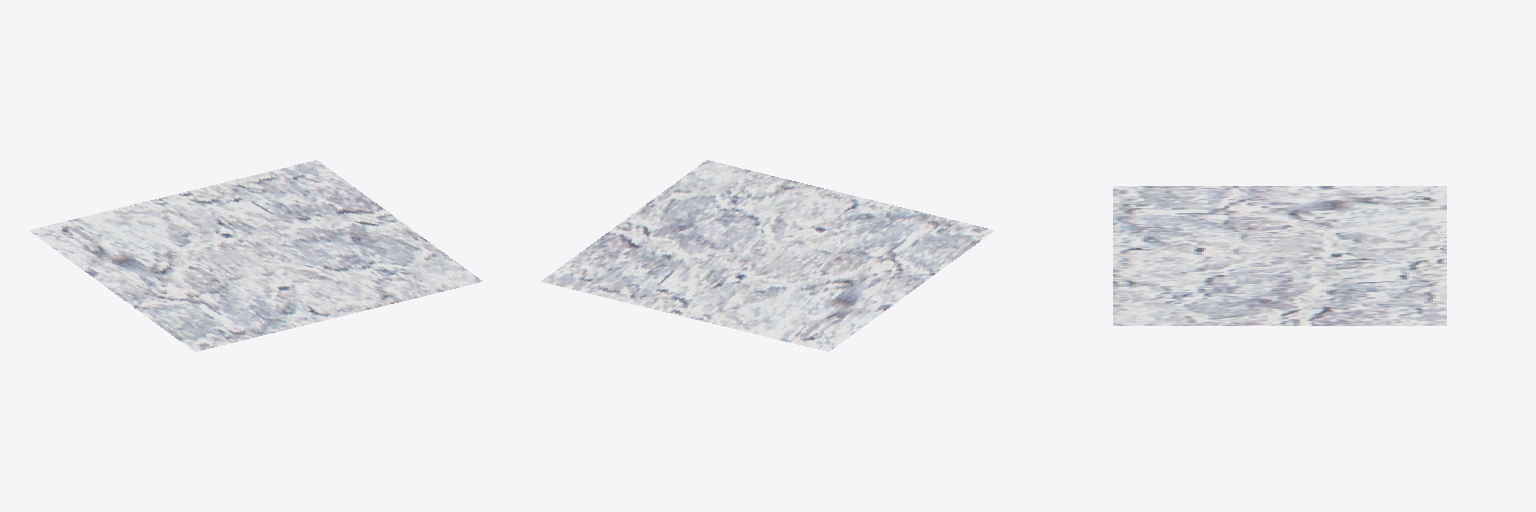
The picture shows the model from 3 angles: view 1: azimuth 30°, elevation 25°; view 2: azimuth 150°, elevation 25°; view 3: azimuth 270°, elevation 25°; orthographic projection.
Visible parts, largest first — view 1: pPlane432 group202; view 2: pPlane432 group202; view 3: pPlane432 group202.
Part boxes in pixels (left/top/right/bottom): pPlane432 group202: left=29, top=160, right=482, bottom=351; pPlane432 group202: left=541, top=160, right=994, bottom=351; pPlane432 group202: left=1113, top=186, right=1446, bottom=325.
Size of the model in its own units: 10 by 0 by 10.
Materials: 1 (1 with a texture image).